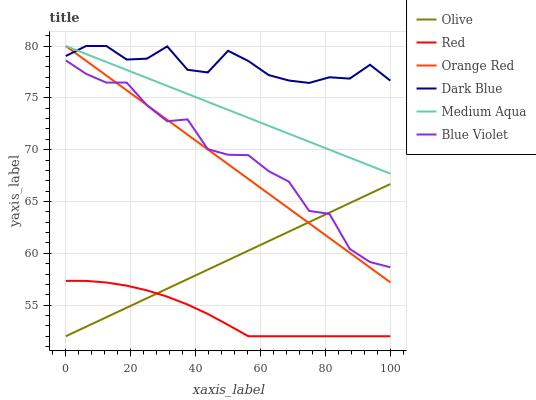axis: (42, 31, 54, 347), (54, 347, 405, 356)
legend: (406, 0, 536, 157)
line: (66, 45, 391, 287), (66, 59, 392, 271), (64, 182, 392, 339), (66, 44, 392, 177), (66, 278, 390, 339), (65, 44, 391, 84)
